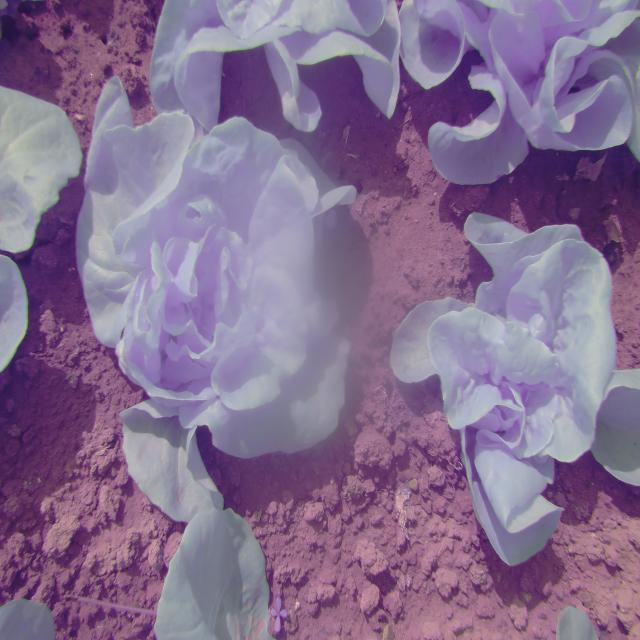vege: (77, 78, 357, 470)
